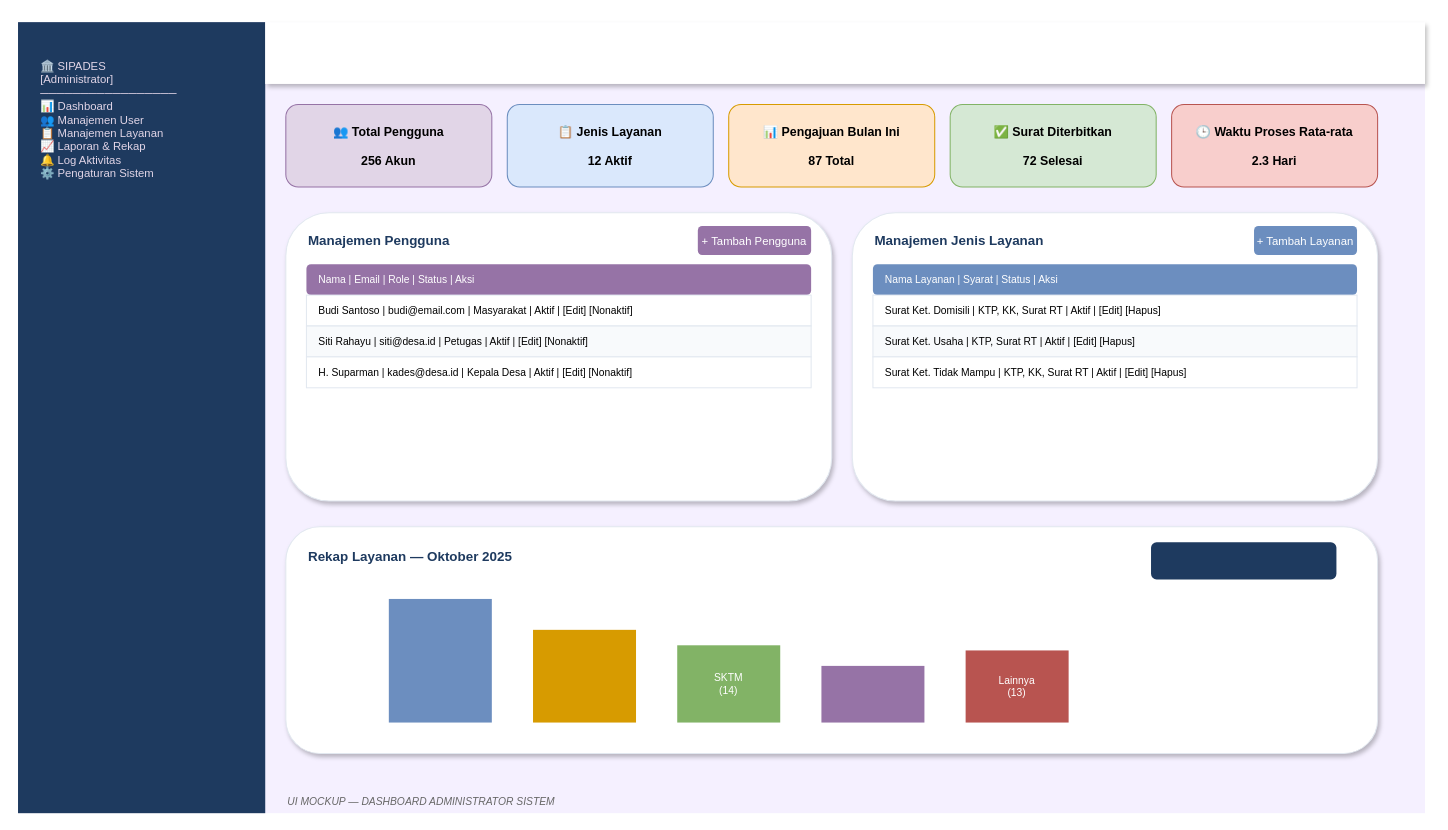
Image size: 1448x830. Some labels were removed from this diagram. Here are the shapes that lost their labels. From the top down, the centre of each, then its label:
the point at 846,54: Dashboard Administrator — Panel Kontrol Sistem
the point at 1243,560: 📊 Export Laporan PDF
the point at 439,660: SKD (32)
the point at 584,675: SKU (18)
the point at 872,693: SKCK (10)
